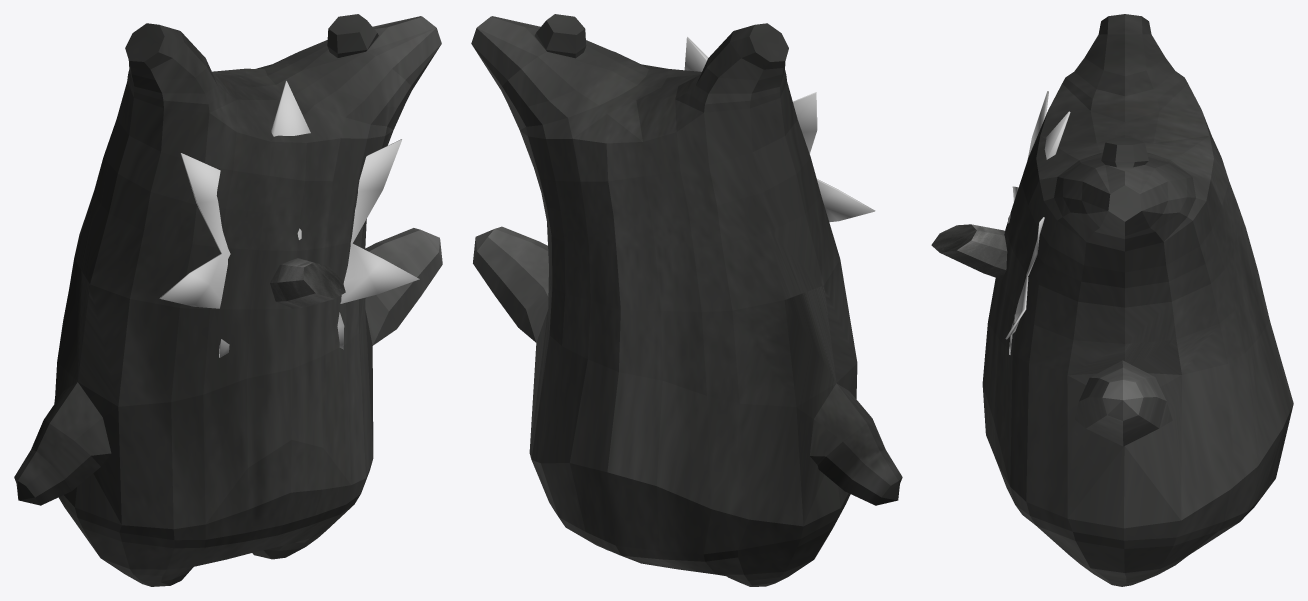
The model's file is frame_0054.obj.
3 renders of one model, left to right at view 1: azimuth 30°, elevation 25°; view 2: azimuth 150°, elevation 25°; view 3: azimuth 270°, elevation 25°, orthographic. The views are drawn at different scales.
Parts seen in each view (by area): view 1: korok, leaf, nose; view 2: korok, leaf; view 3: korok, nose, leaf.
Part boxes in pixels (x1,y1,x2,y2): korok: (14, 14, 442, 586); leaf: (159, 81, 419, 357); nose: (270, 258, 345, 308); korok: (471, 14, 902, 586); leaf: (684, 37, 875, 222); korok: (982, 14, 1293, 586); nose: (931, 224, 1007, 279); leaf: (1005, 91, 1070, 354).
Size of the model in its own units: 1.69 by 2.14 by 1.36.
